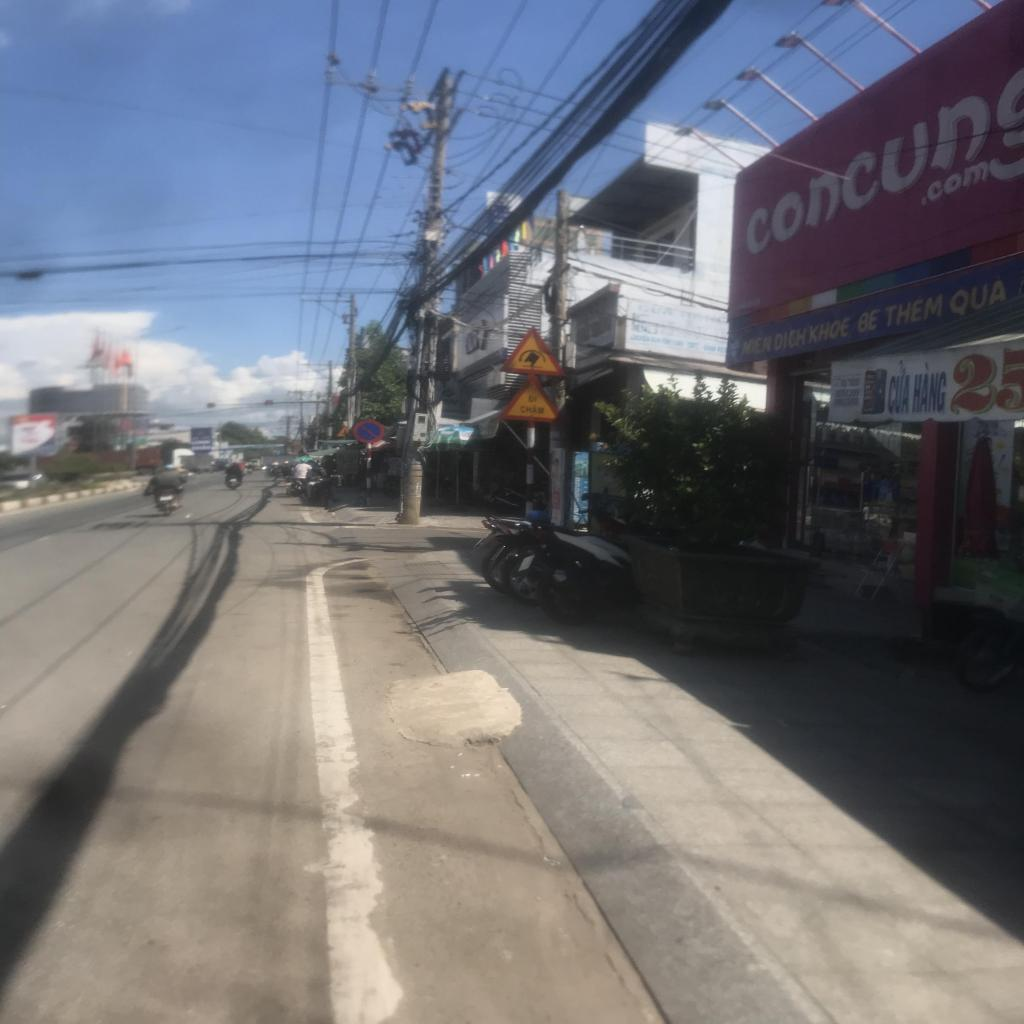cam_do_xe: (354, 420, 384, 443)
chu_y_nguoi_di_bo_cat_ngang: (337, 425, 353, 437)
di_cham: (498, 372, 565, 423)
khac: (498, 326, 566, 376)
